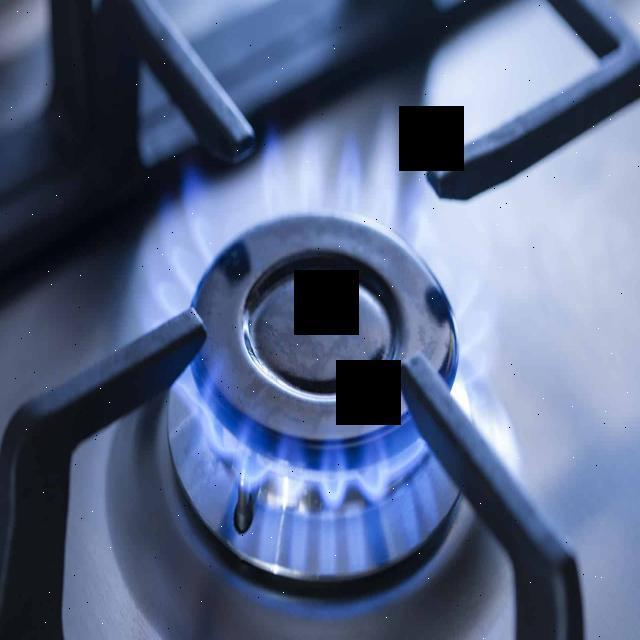Flame: (120, 123, 562, 563)
